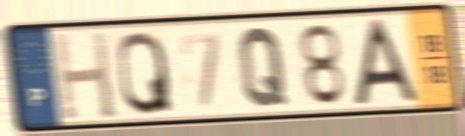7: (179, 31, 223, 109)
8: (296, 21, 347, 107)
A: (350, 15, 423, 108)
H: (50, 28, 119, 123)
Q: (115, 27, 176, 118), (236, 24, 290, 110)
